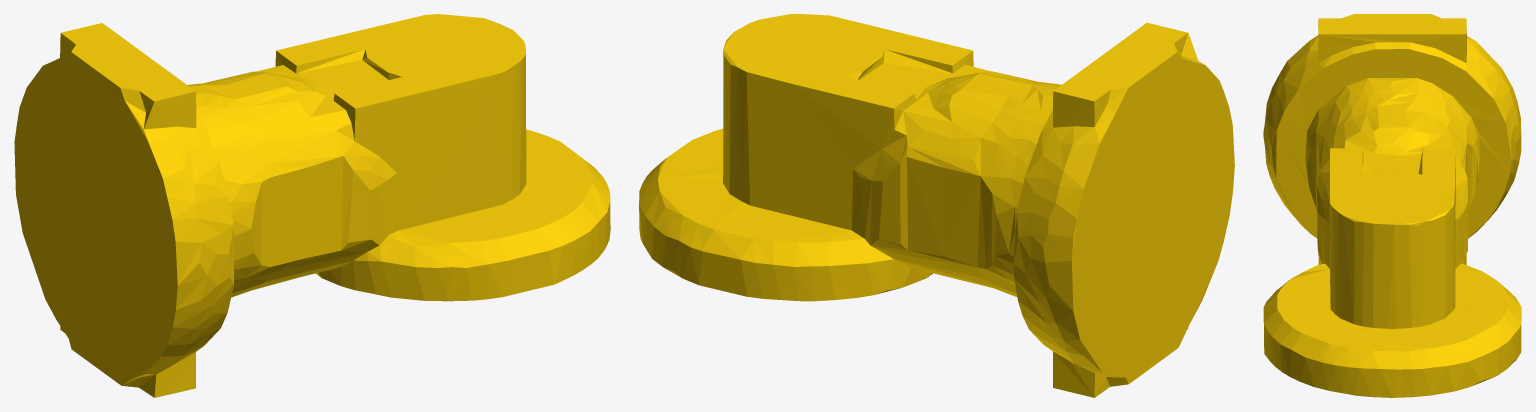
3 views of the same model, side by side, from view 1: azimuth 30°, elevation 25°; view 2: azimuth 150°, elevation 25°; view 3: azimuth 270°, elevation 25° (orthographic). The views are drawn at different scales.
Visible parts, largest first — view 1: Node_0x7f98ee6acf00; view 2: Node_0x7f98ee6acf00; view 3: Node_0x7f98ee6acf00.
Boxes of the visible parts, left/top/right/bottom form: Node_0x7f98ee6acf00: left=14, top=14, right=610, bottom=397; Node_0x7f98ee6acf00: left=639, top=14, right=1234, bottom=397; Node_0x7f98ee6acf00: left=1263, top=14, right=1521, bottom=397.
Size of the model in its own units: 0.3295 by 0.1901 by 0.1899.
